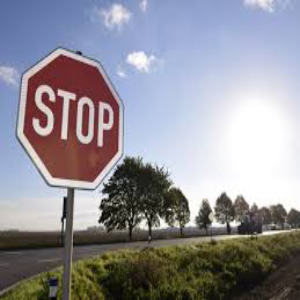STOP_SIGN: (15, 46, 125, 190)
